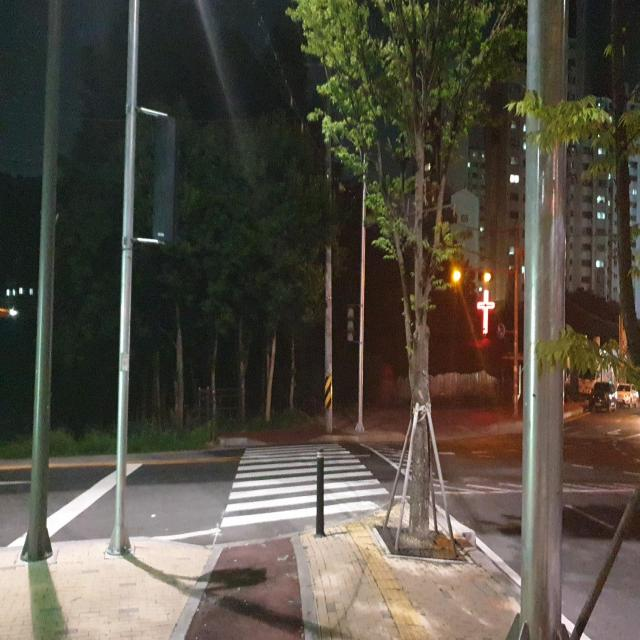횡단보도: (219, 441, 391, 530)
